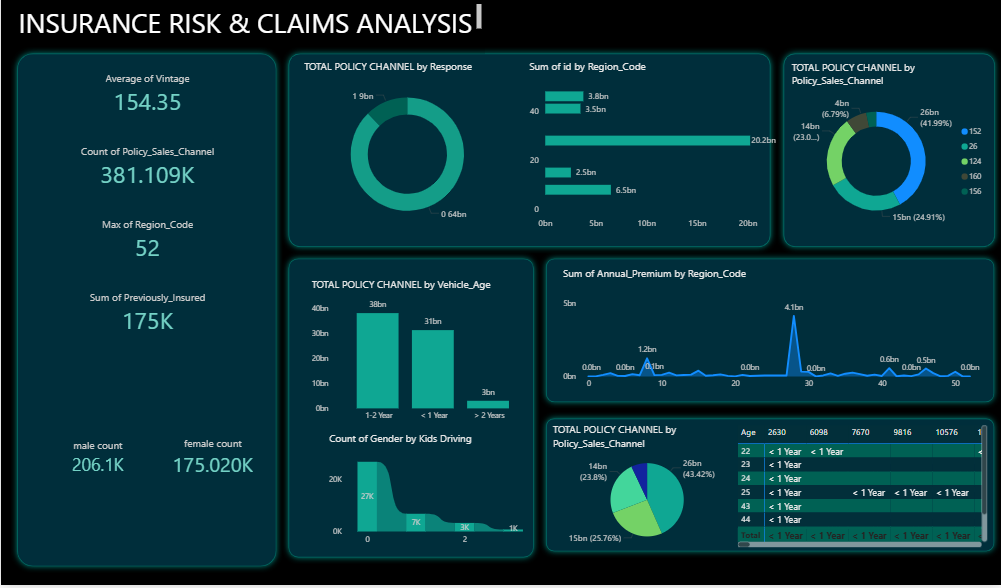

This screenshot's page, from the dashboard's own definition file:
{"tool":"powerbi","page":{"name":"Page 1","canvas":[1600,950],"ordinal":0},"visuals":[{"type":"textbox","box":[15.9,15.9,757.7,57.3],"z":0},{"type":"shape","box":[15.9,89.1,434.6,840.5],"z":1000},{"type":"cardVisual","fields":{"Data":["Avg(Vehicle_Insurance.Vintage)","CountNonNull(Vehicle_Insurance.Policy_Sales_Channel)","Max(Vehicle_Insurance.Region_Code)","Sum(Vehicle_Insurance.Previously_Insured)"]},"box":[99.5,109.8,269.3,459.7],"z":2000},{"type":"cardVisual","fields":{"Data":["Vehicle_Insurance.male count","Vehicle_Insurance.female count"]},"box":[68.6,689.5,358.5,109.8],"z":3000},{"type":"shape","box":[450.5,89.1,791.1,329.5],"z":4000},{"type":"donutChart","fields":{"Y":["Vehicle_Insurance.TOTAL POLICY CHANNEL"],"Category":["Vehicle_Insurance.Response"]},"box":[479.1,108.2,340.7,284.9],"z":5000},{"type":"clusteredBarChart","fields":{"Category":["Vehicle_Insurance.Region_Code"],"Y":["Sum(Vehicle_Insurance.id)"]},"box":[840.5,108.1,420.2,283],"z":6000},{"type":"shape","box":[1241.6,89.1,358.2,329.5],"z":7000},{"type":"donutChart","fields":{"Y":["Vehicle_Insurance.TOTAL POLICY CHANNEL"],"Category":["Vehicle_Insurance.Policy_Sales_Channel"]},"box":[1260.7,109.8,323.1,281.8],"z":8000},{"type":"shape","box":[450.5,418.7,412.3,498.2],"z":9000},{"type":"clusteredColumnChart","fields":{"Y":["Vehicle_Insurance.TOTAL POLICY CHANNEL"],"Category":["Vehicle_Insurance.Vehicle_Age"]},"box":[491.9,458.4,365,240],"z":10000},{"type":"ribbonChart","fields":{"Category":["Table1.Kids Driving"],"Y":["CountNonNull(Table1.Gender)"]},"box":[520.5,703.6,335.9,191],"z":11000},{"type":"shape","box":[862.8,418.7,737,249.9],"z":12000},{"type":"areaChart","fields":{"Category":["Vehicle_Insurance.Region_Code"],"Y":["Sum(Vehicle_Insurance.Annual_Premium)"]},"box":[893,440.9,706.8,206.9],"z":13000},{"type":"shape","box":[862.8,673.3,737,232.4],"z":14000},{"type":"pieChart","fields":{"Y":["Vehicle_Insurance.TOTAL POLICY CHANNEL"],"Category":["Vehicle_Insurance.Policy_Sales_Channel"]},"box":[877.1,689.3,312,205.3],"z":15000},{"type":"pivotTable","fields":{"Rows":["Vehicle_Insurance.Age"],"Columns":["Vehicle_Insurance.Annual_Premium"],"Values":["Min(Vehicle_Insurance.Vehicle_Age)"]},"box":[1174.8,689.3,409.1,205.3],"z":16000}]}

Visuals, with their boxes in screenshot pixels (x1, y1, x2, y2), scaled from the page's 1600x950 canvas onto the 1001x588 screenshot:
textbox: 10 10 484 45
shape: 10 55 282 575
cardVisual - Avg(Vehicle_Insurance.Vintage) x CountNonNull(Vehicle_Insurance.Policy_Sales_Channel): 62 68 231 352
cardVisual - Vehicle_Insurance.male count x Vehicle_Insurance.female count: 43 427 267 495
shape: 282 55 777 259
donutChart - Vehicle_Insurance.TOTAL POLICY CHANNEL x Vehicle_Insurance.Response: 300 67 513 243
clusteredBarChart - Vehicle_Insurance.Region_Code x Sum(Vehicle_Insurance.id): 526 67 789 242
shape: 777 55 1000 259
donutChart - Vehicle_Insurance.TOTAL POLICY CHANNEL x Vehicle_Insurance.Policy_Sales_Channel: 789 68 991 242
shape: 282 259 540 568
clusteredColumnChart - Vehicle_Insurance.TOTAL POLICY CHANNEL x Vehicle_Insurance.Vehicle_Age: 308 284 536 432
ribbonChart - Table1.Kids Driving x CountNonNull(Table1.Gender): 326 435 536 554
shape: 540 259 1000 414
areaChart - Vehicle_Insurance.Region_Code x Sum(Vehicle_Insurance.Annual_Premium): 559 273 1000 401
shape: 540 417 1000 561
pieChart - Vehicle_Insurance.TOTAL POLICY CHANNEL x Vehicle_Insurance.Policy_Sales_Channel: 549 427 744 554
pivotTable - Vehicle_Insurance.Age x Vehicle_Insurance.Annual_Premium: 735 427 991 554
